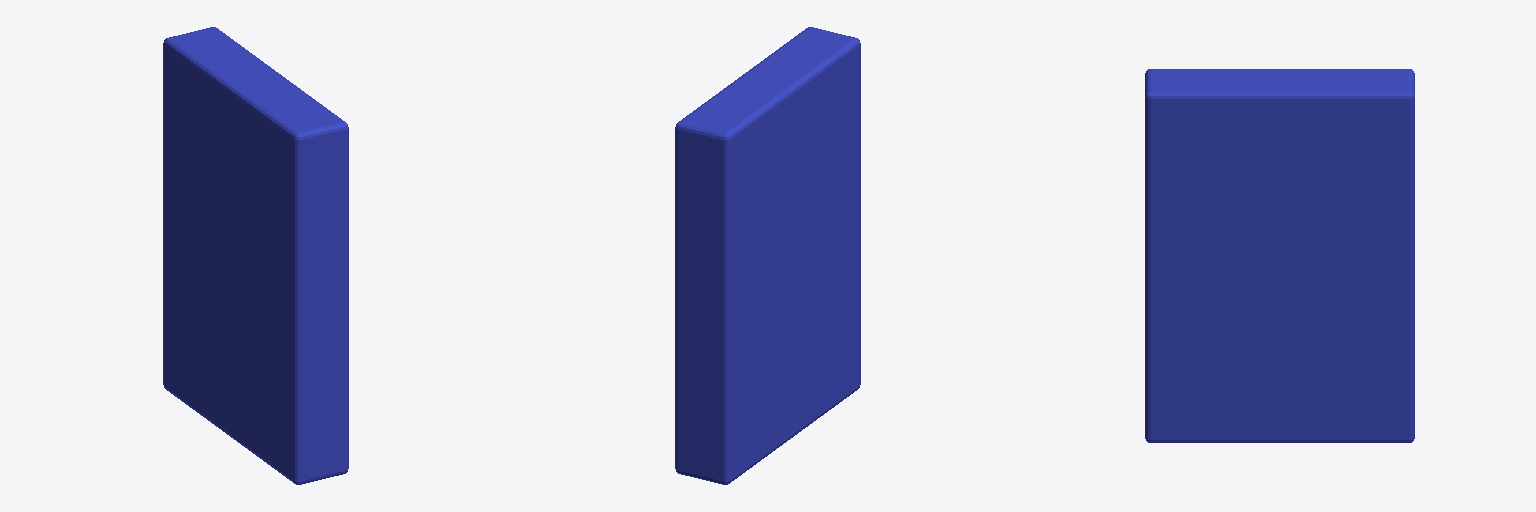
File: book3.obj
3 renders of one model, left to right at view 1: azimuth 30°, elevation 25°; view 2: azimuth 150°, elevation 25°; view 3: azimuth 270°, elevation 25°, orthographic.
Parts seen in each view (by area): view 1: Cube; view 2: Cube; view 3: Cube.
Boxes of the visible parts, x1=… form: Cube: x1=163, y1=27, x2=348, y2=484; Cube: x1=675, y1=27, x2=860, y2=484; Cube: x1=1145, y1=69, x2=1414, y2=442.
Bounding box in the file's own units: 32.53 × 200 × 139.